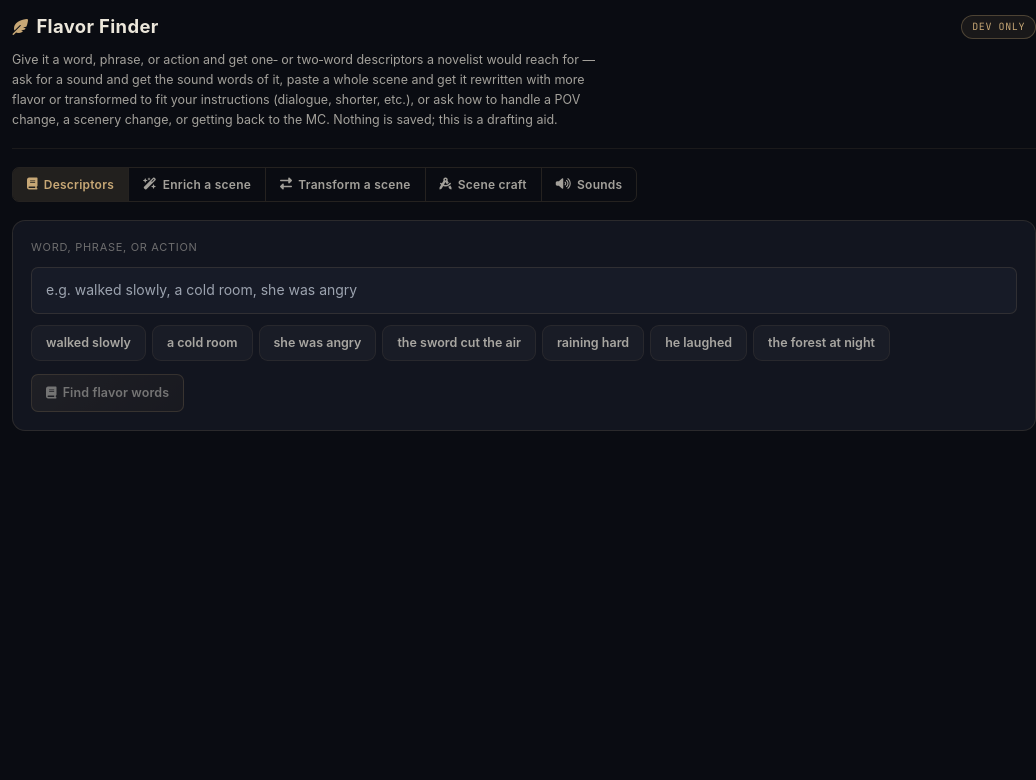
Scenario: FlavorFinder — craft response without descriptors › renders sound words for a sound source
The width and height of the screenshot is (1036, 780).
Click the button "Sounds": {"x": 589, "y": 184} [541,168,636,201]
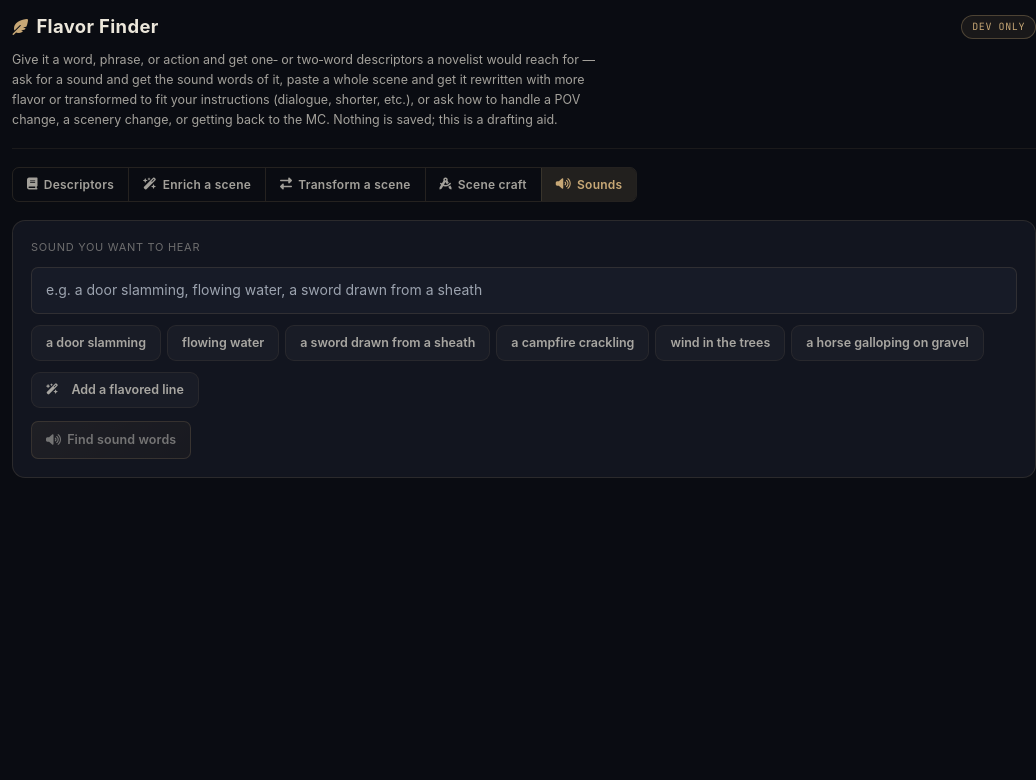
Replace the text in the field labelled "Sound you want to hear" with "a door slamming": {"x": 524, "y": 290} [31,267,1017,314]
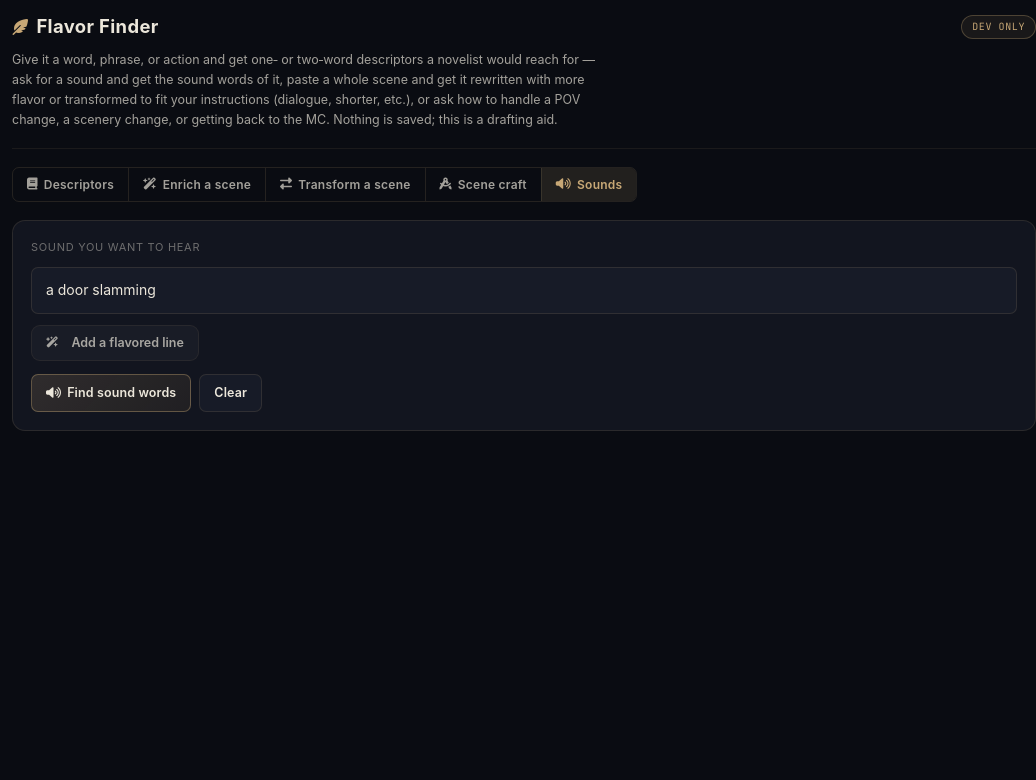
Click the button "Find sound words": {"x": 111, "y": 393} [31,374,191,412]
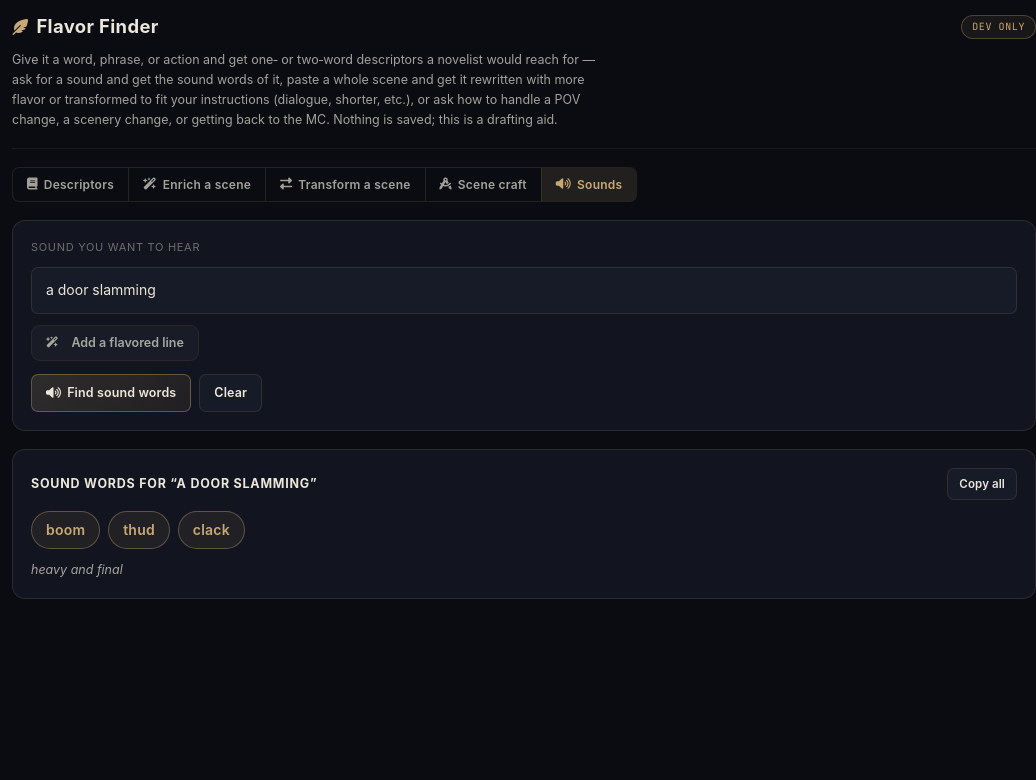
Expected: the heading "Sound words for “a door slamming”" is shown, [31,474,327,494]
Expected: the button "boom" is shown, [31,511,100,550]
Expected: the text "heavy and final" is shown, [31,562,123,578]
